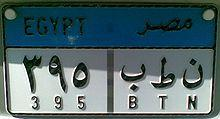3: (21, 51, 44, 94)
5: (70, 61, 91, 90)
9: (46, 53, 68, 93)
Taa: (150, 56, 176, 91)
baa: (119, 57, 146, 91)
noon: (180, 56, 206, 90)
